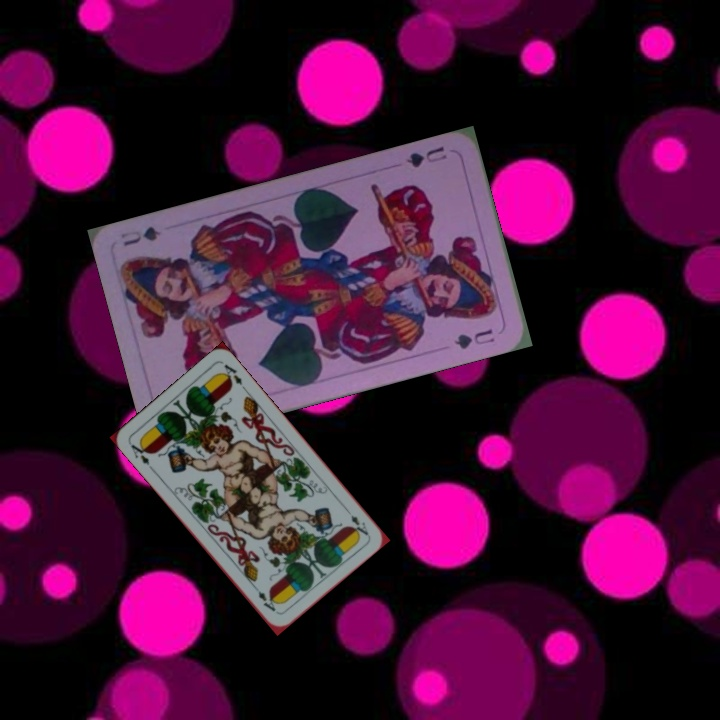EA: (126, 438, 153, 468), (347, 511, 371, 538)
GU: (402, 142, 449, 170)
